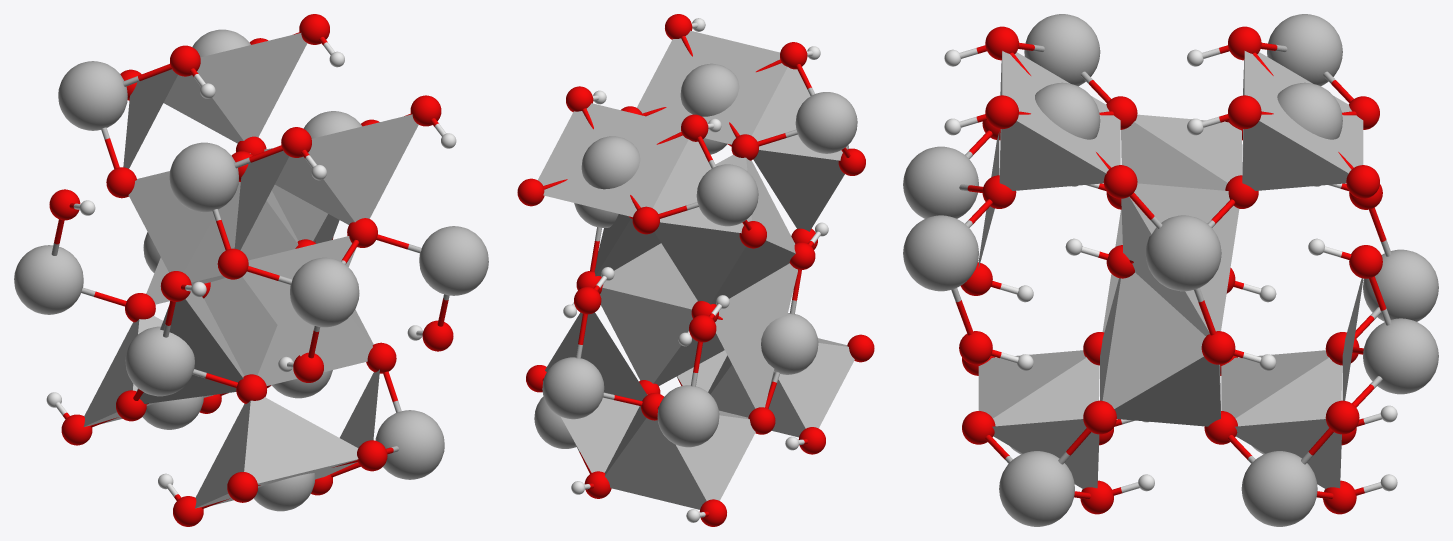
The model's file is VHO2_3_cart.glb.
3 views of the same model, side by side, from view 1: azimuth 30°, elevation 25°; view 2: azimuth 150°, elevation 25°; view 3: azimuth 270°, elevation 25° (orthographic). The views are drawn at different scales.
Visible parts, largest first — view 1: V01.002_polyhedron, V02_polyhedron, V04.003_polyhedron, V04.001_polyhedron, V03.001_polyhedron, V03_polyhedron, V01_polyhedron, V01, V01.001, V04, V04.002, V03.002 (+31 smaller); view 2: V03.001_polyhedron, V02.002_polyhedron, V04.003_polyhedron, V01.002_polyhedron, V04.001_polyhedron, V02_polyhedron, V03_polyhedron, V01_polyhedron, V03.003_polyhedron, V02.003_polyhedron, V04_polyhedron, V04.002 (+30 smaller); view 3: V03.001_polyhedron, V04.003_polyhedron, V04.001_polyhedron, V01.003_polyhedron, V02_polyhedron, V02.002_polyhedron, V01.002_polyhedron, V01.001, V02.003, V01.003, V02.001, V03.003 (+30 smaller).
Boxes of the visible parts, x1=… form: V01.002_polyhedron: x1=128, y1=153, x2=298, y2=285; V02_polyhedron: x1=195, y1=397, x2=358, y2=508; V04.003_polyhedron: x1=163, y1=33, x2=307, y2=143; V04.001_polyhedron: x1=275, y1=114, x2=418, y2=224; V03.001_polyhedron: x1=204, y1=277, x2=373, y2=385; V03_polyhedron: x1=136, y1=291, x2=244, y2=403; V01_polyhedron: x1=242, y1=236, x2=355, y2=356; V01: x1=290, y1=257, x2=359, y2=327; V01.001: x1=419, y1=226, x2=488, y2=295; V04: x1=169, y1=142, x2=238, y2=212; V04.002: x1=58, y1=61, x2=127, y2=130; V03.002: x1=14, y1=245, x2=83, y2=314; V03.001_polyhedron: x1=600, y1=243, x2=724, y2=385; V02.002_polyhedron: x1=605, y1=394, x2=755, y2=509; V04.003_polyhedron: x1=538, y1=103, x2=688, y2=217; V01.002_polyhedron: x1=654, y1=154, x2=795, y2=304; V04.001_polyhedron: x1=636, y1=30, x2=787, y2=144; V02_polyhedron: x1=708, y1=338, x2=854, y2=437; V03_polyhedron: x1=715, y1=263, x2=797, y2=408; V01_polyhedron: x1=753, y1=150, x2=844, y2=231; V03.003_polyhedron: x1=545, y1=312, x2=647, y2=400; V02.003_polyhedron: x1=561, y1=397, x2=639, y2=472; V04_polyhedron: x1=752, y1=67, x2=842, y2=160; V04.002: x1=696, y1=164, x2=758, y2=226; V03.001_polyhedron: x1=1100, y1=272, x2=1220, y2=426; V04.003_polyhedron: x1=1242, y1=51, x2=1363, y2=190; V04.001_polyhedron: x1=999, y1=51, x2=1120, y2=190; V01.003_polyhedron: x1=1121, y1=183, x2=1239, y2=336; V02_polyhedron: x1=978, y1=350, x2=1099, y2=426; V02.002_polyhedron: x1=1221, y1=350, x2=1342, y2=426; V01.002_polyhedron: x1=1121, y1=114, x2=1241, y2=190; V01.001: x1=903, y1=215, x2=978, y2=291; V02.003: x1=1241, y1=451, x2=1317, y2=526; V01.003: x1=1145, y1=215, x2=1221, y2=291; V02.001: x1=999, y1=451, x2=1074, y2=526; V03.003: x1=1363, y1=318, x2=1438, y2=394.
Bounding box in the file's own units: 6.06 × 9.4 × 10.15.
